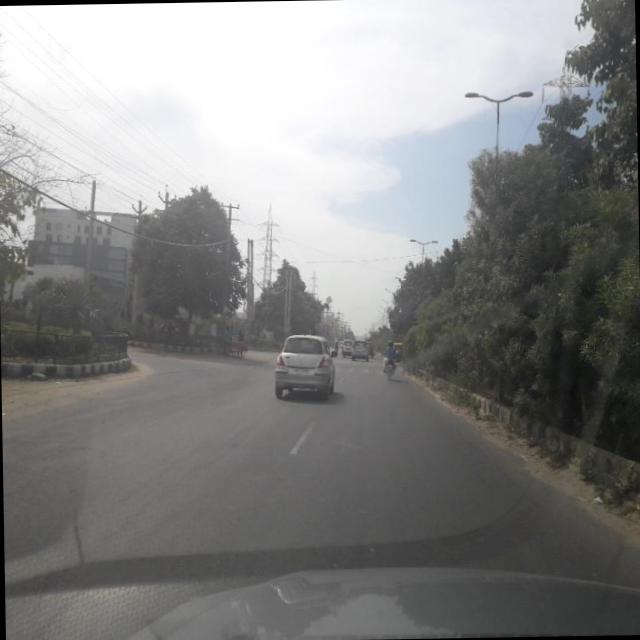crack: (2, 392, 592, 573)
